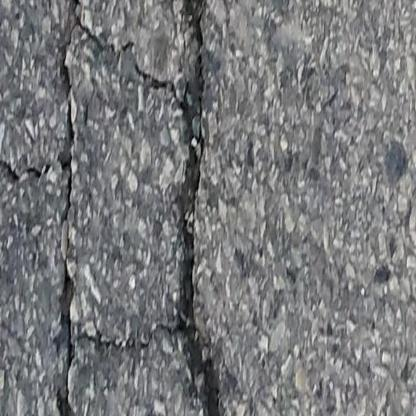Cracks: (96, 0, 257, 416), (0, 0, 111, 248), (50, 258, 108, 416)
